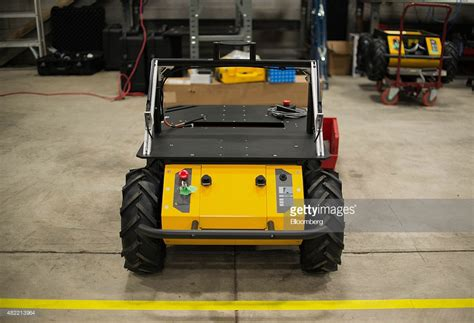husky: (119, 57, 345, 276)
